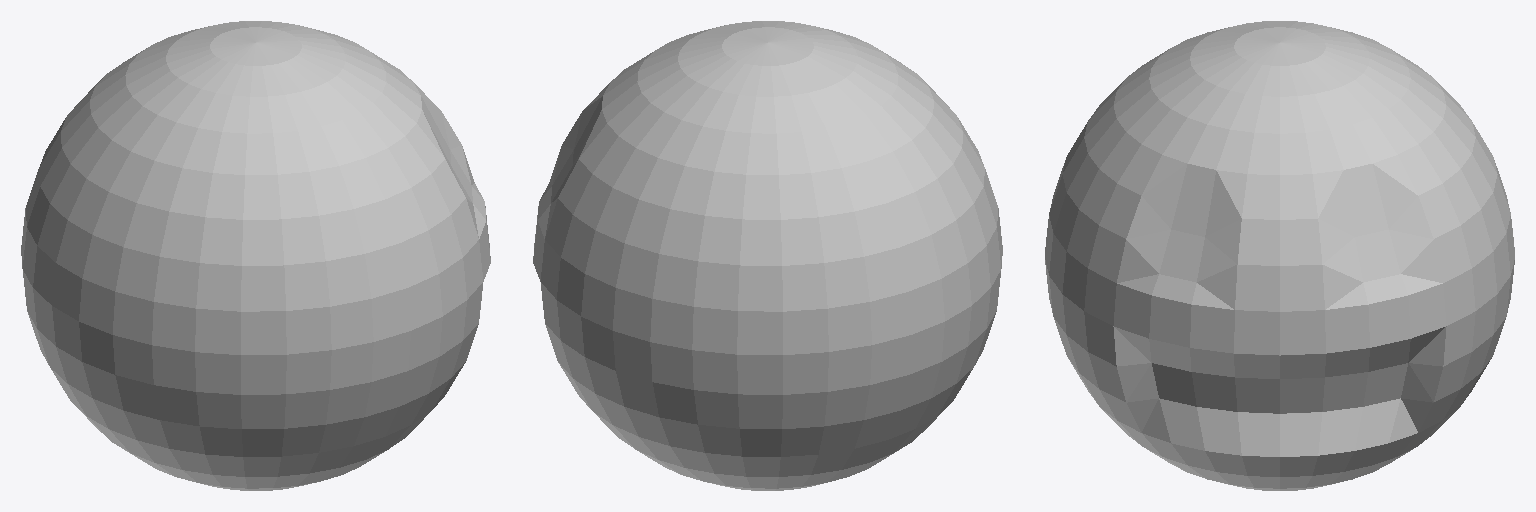
The model's file is pacManGhost.obj.
The picture shows the model from 3 angles: view 1: azimuth 30°, elevation 25°; view 2: azimuth 150°, elevation 25°; view 3: azimuth 270°, elevation 25°; orthographic projection.
Parts seen in each view (by area): view 1: Sphere; view 2: Sphere; view 3: Sphere.
Part boxes in pixels (x1,y1,x2,y2): Sphere: (21, 21, 490, 490); Sphere: (533, 21, 1002, 490); Sphere: (1045, 21, 1514, 490).
Size of the model in its own units: 1 by 1 by 1.